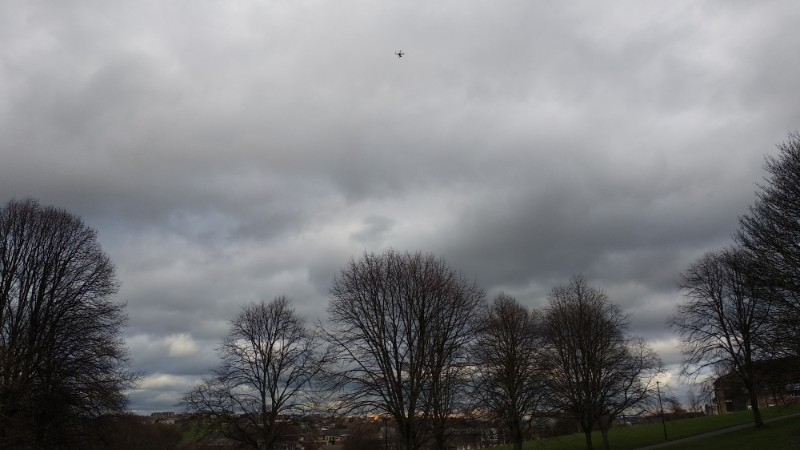drone: (394, 50, 406, 60)
